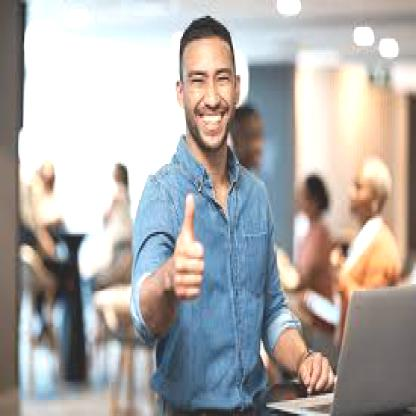Thumbs up: (166, 192, 218, 322)
